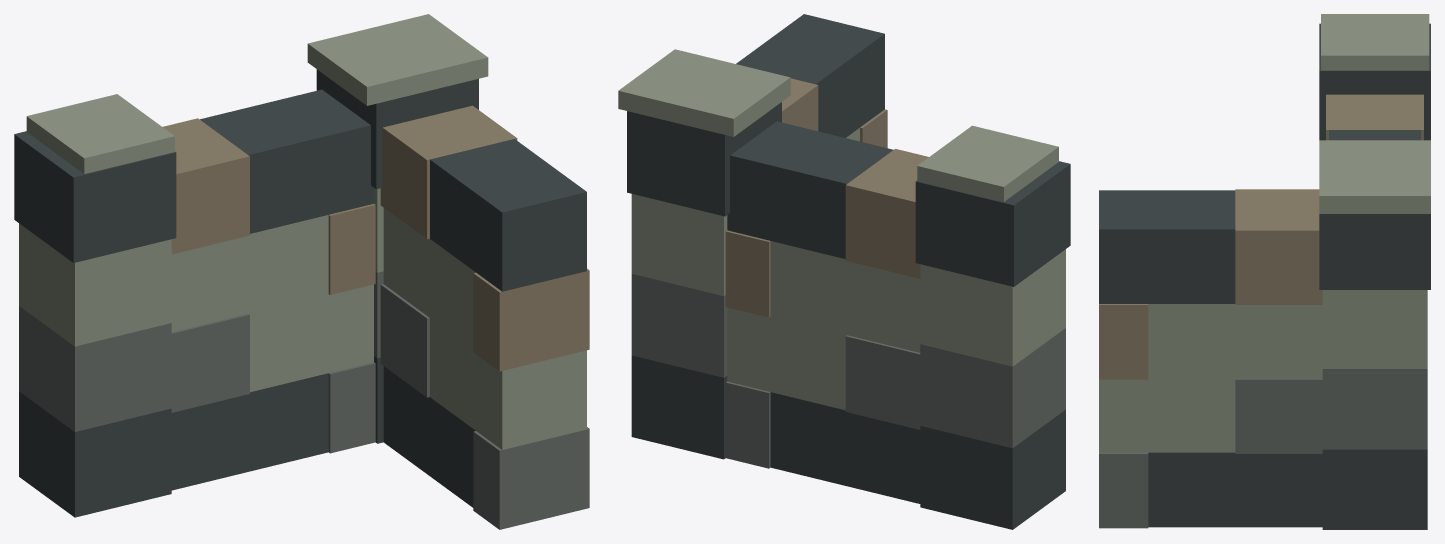
The model's file is TW_STONE_CORNER_R90_B_LOD0.glb.
3 views of the same model, side by side, from view 1: azimuth 30°, elevation 25°; view 2: azimuth 150°, elevation 25°; view 3: azimuth 270°, elevation 25° (orthographic). The views are drawn at different scales.
Visible parts, largest first — view 1: TW_STONE_CORNER_R90_B_LOD0; view 2: TW_STONE_CORNER_R90_B_LOD0; view 3: TW_STONE_CORNER_R90_B_LOD0.
Part boxes in pixels (box(x1,y1,x2,y2)): TW_STONE_CORNER_R90_B_LOD0: box(14, 14, 589, 529); TW_STONE_CORNER_R90_B_LOD0: box(618, 14, 1070, 529); TW_STONE_CORNER_R90_B_LOD0: box(1099, 14, 1430, 529).
Size of the model in its own units: 1.37 by 1.14 by 1.01.
1 material, 1 textured.
